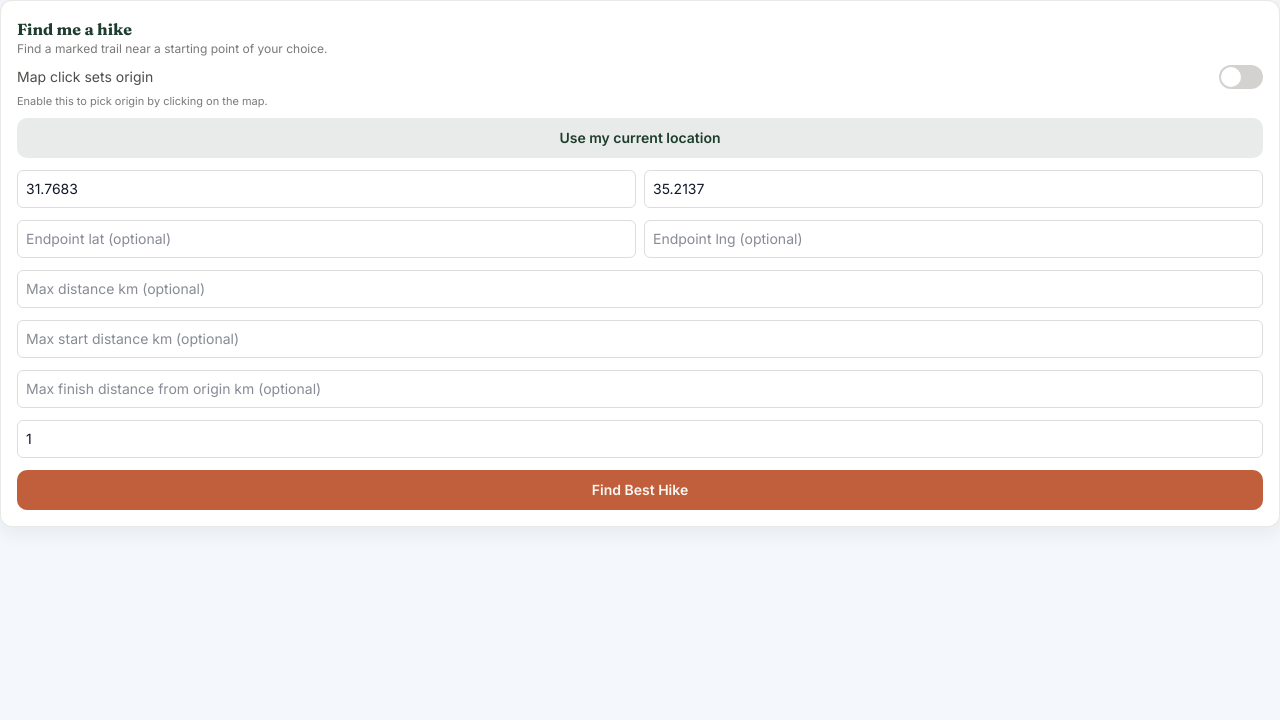
Scenario: HikeSearchPanel validation › rejects non-positive max start distance
In the field with placeholder "Max start distance km (optional)": point(640, 338) 17,320 -> 1263,358, type "0"
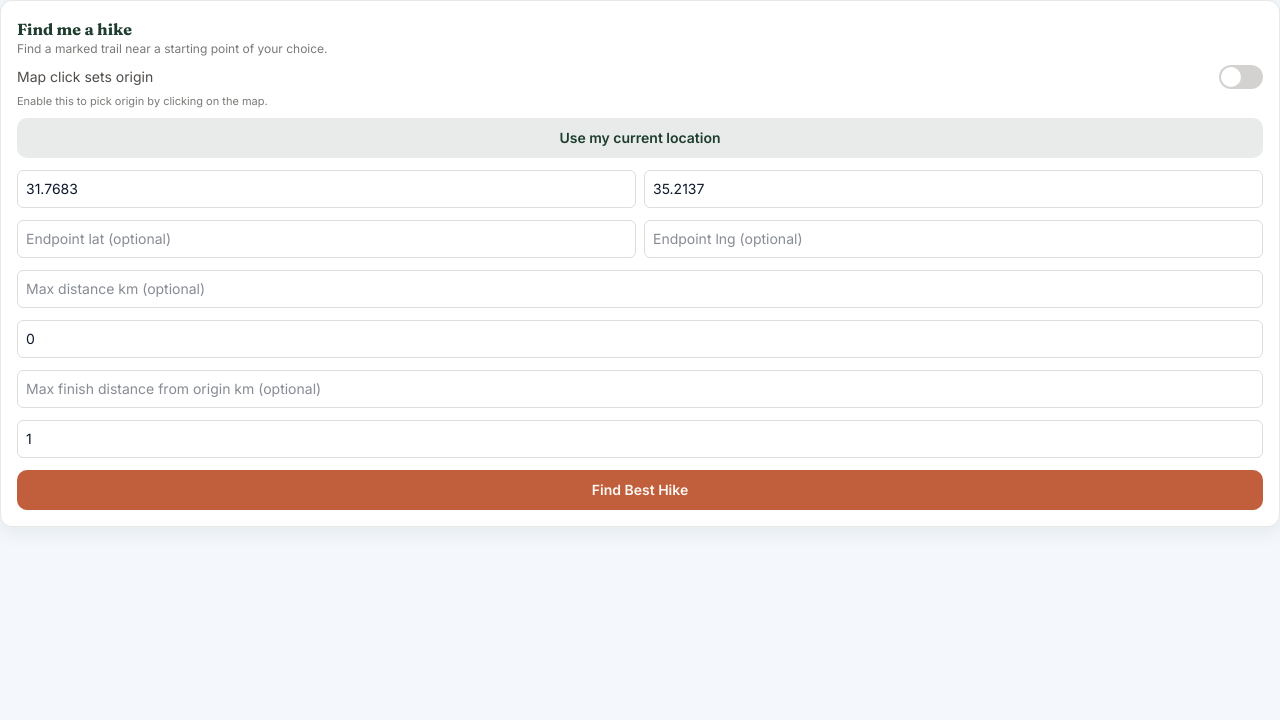
Click the button "Find Best Hike": point(640, 490) 17,470 -> 1263,510
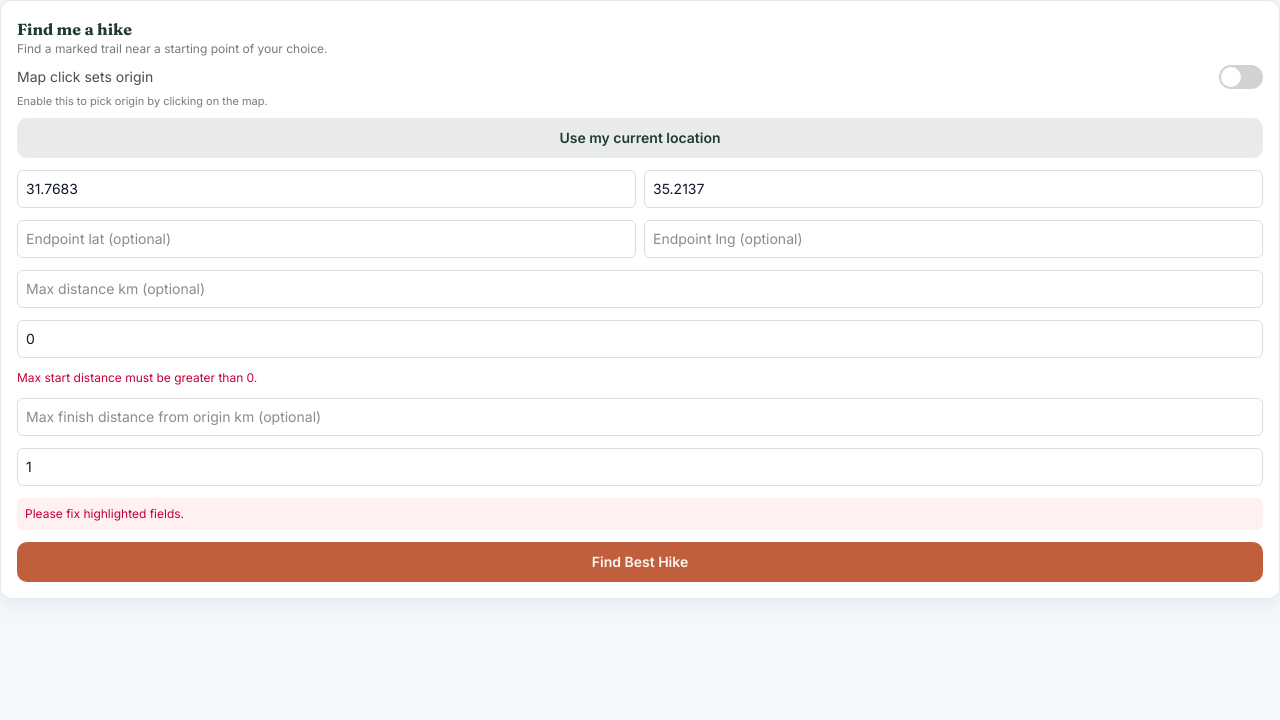
Result: the text "Max start distance must be greater than 0." is shown at 17,370 -> 257,384
